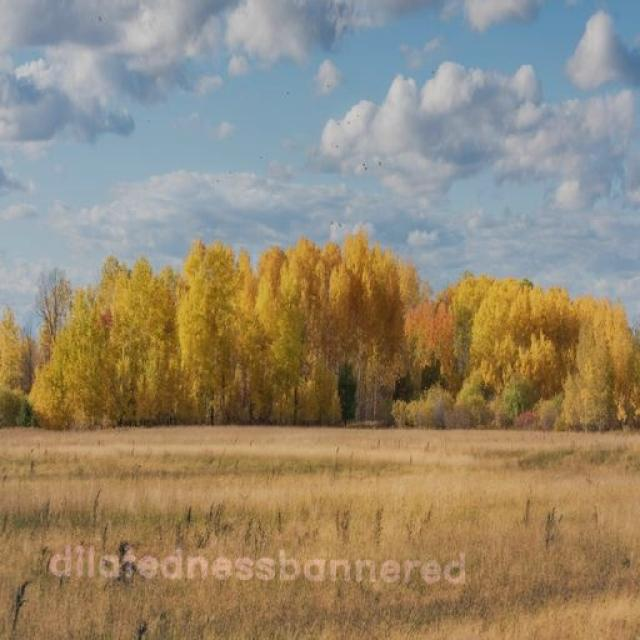watermark: (38, 545, 496, 588)
